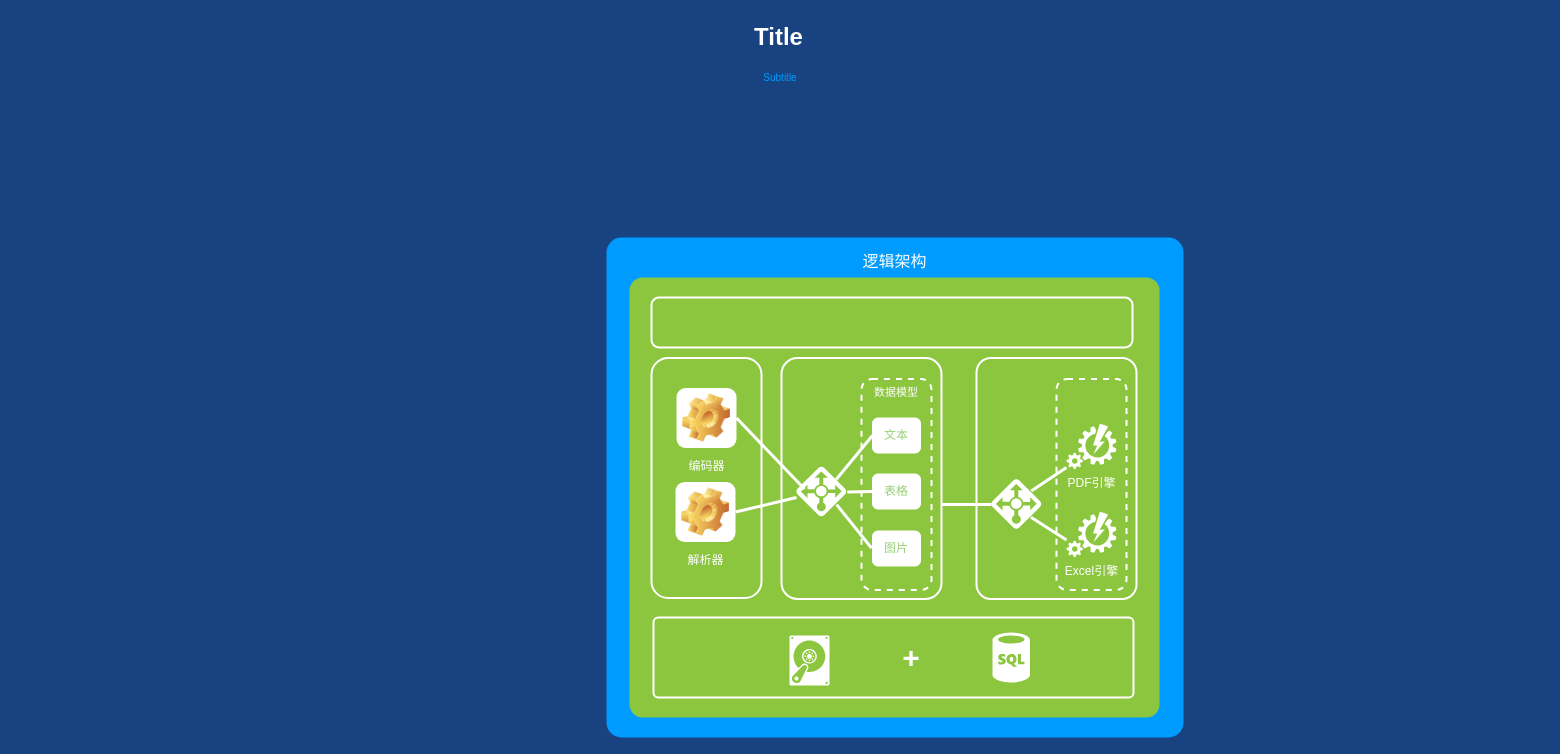
This 1560x754 diagram has some shape labels left out. The box of each missing label's shape, as (x1, y1, x2, y2) in pixels:
API: (650, 296, 1133, 348)
VHD: (789, 635, 829, 685)
数据库: (992, 632, 1030, 682)
生成引擎: (1055, 378, 1127, 590)
